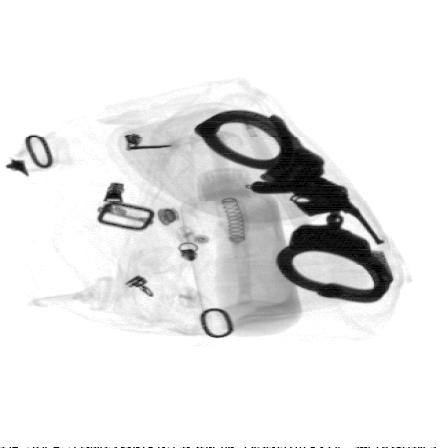Gun: (248, 170, 385, 247)
HandCuffs: (193, 109, 390, 305)
